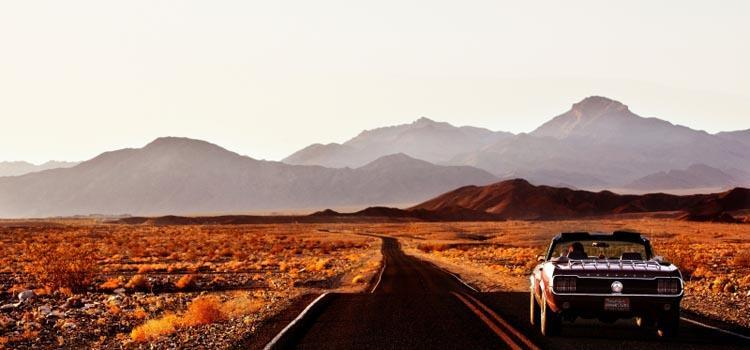car: (525, 224, 687, 339)
mountain: (335, 90, 750, 215), (0, 127, 356, 223)
